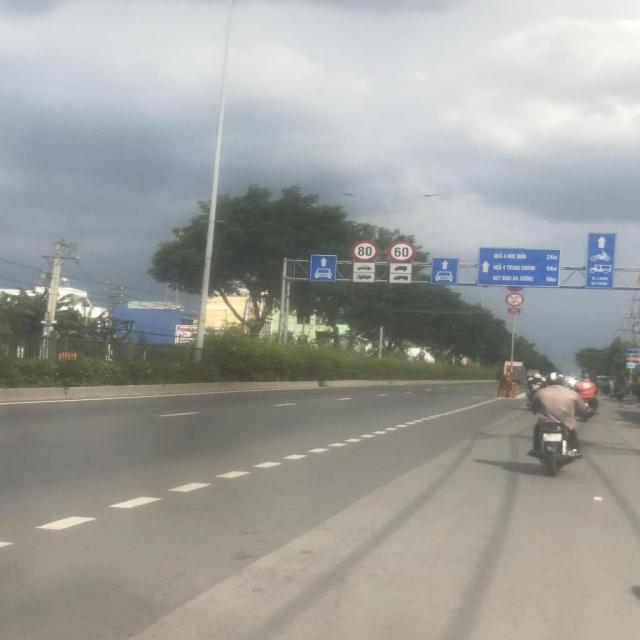127-toc-do-toi-da-60: (388, 240, 416, 264)
127-toc-do-toi-da-80: (350, 240, 380, 261)
